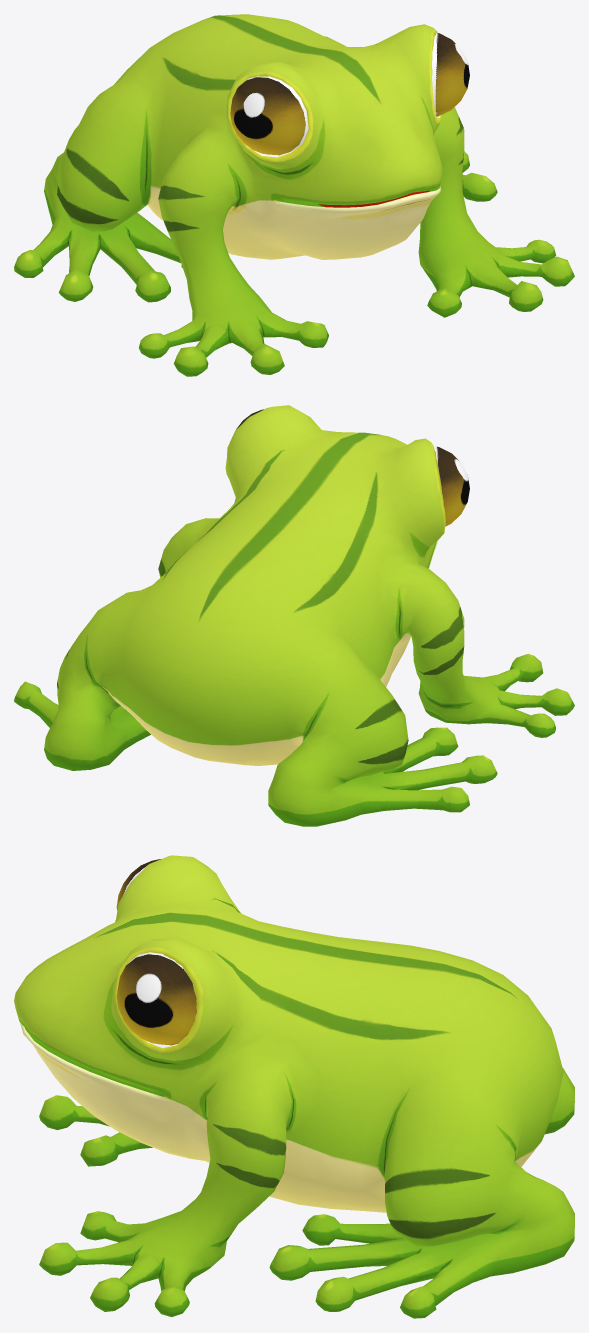
Rendered from sapo.glb.
The picture shows the model from 3 angles, top to bottom: view 1: azimuth 30°, elevation 25°; view 2: azimuth 150°, elevation 25°; view 3: azimuth 270°, elevation 25°; orthographic projection. The views are drawn at different scales.
Parts seen in each view (by area): view 1: Object_10; view 2: Object_10; view 3: Object_10.
Boxes of the visible parts, x1,y1,x2,y2 form: Object_10: (14,14,574,376); Object_10: (14,405,574,826); Object_10: (14,855,574,1318).
Size of the model in its own units: 0.898 by 0.5014 by 0.8319.
Materials: 1 (1 with a texture image).
